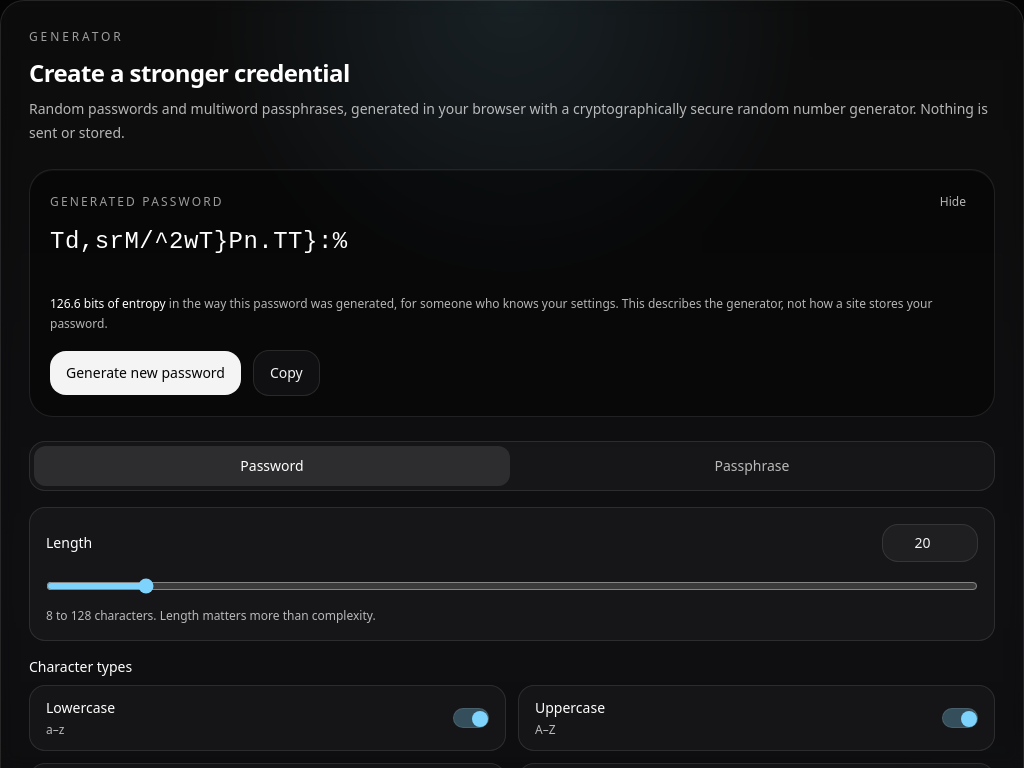
Test: PasswordGenerator: copy and reveal › explains a clipboard failure in an alert and selects the text for manual copying
The image size is (1024, 768).
Click the button named "copy password to clipboard".
click(286, 373)  # box [253,350,320,396]
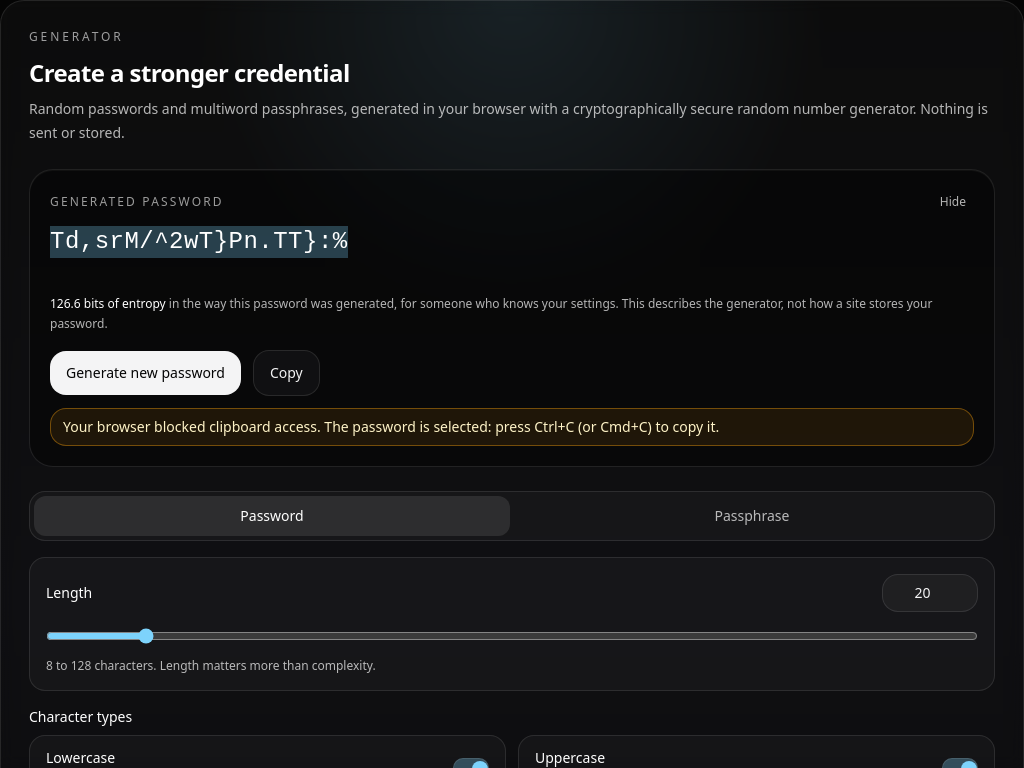
Expected: the message shows "blocked clipboard access", [63,417,352,436]
